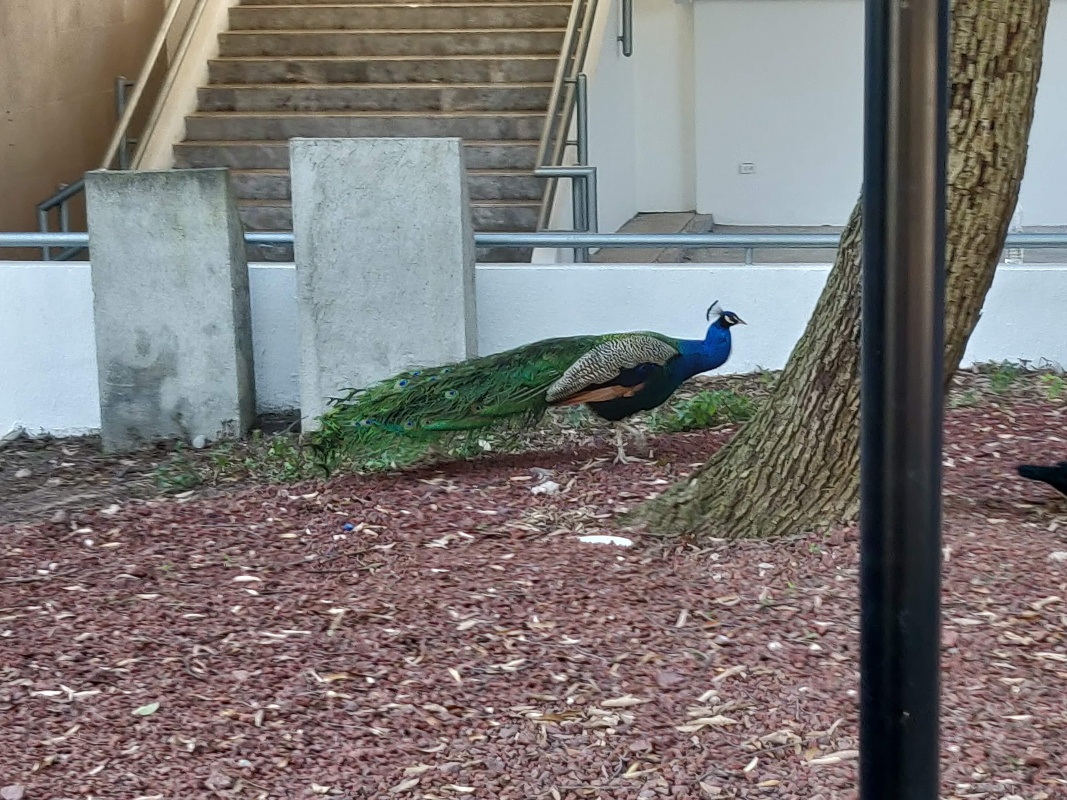pavoreal: (446, 301, 747, 427)
